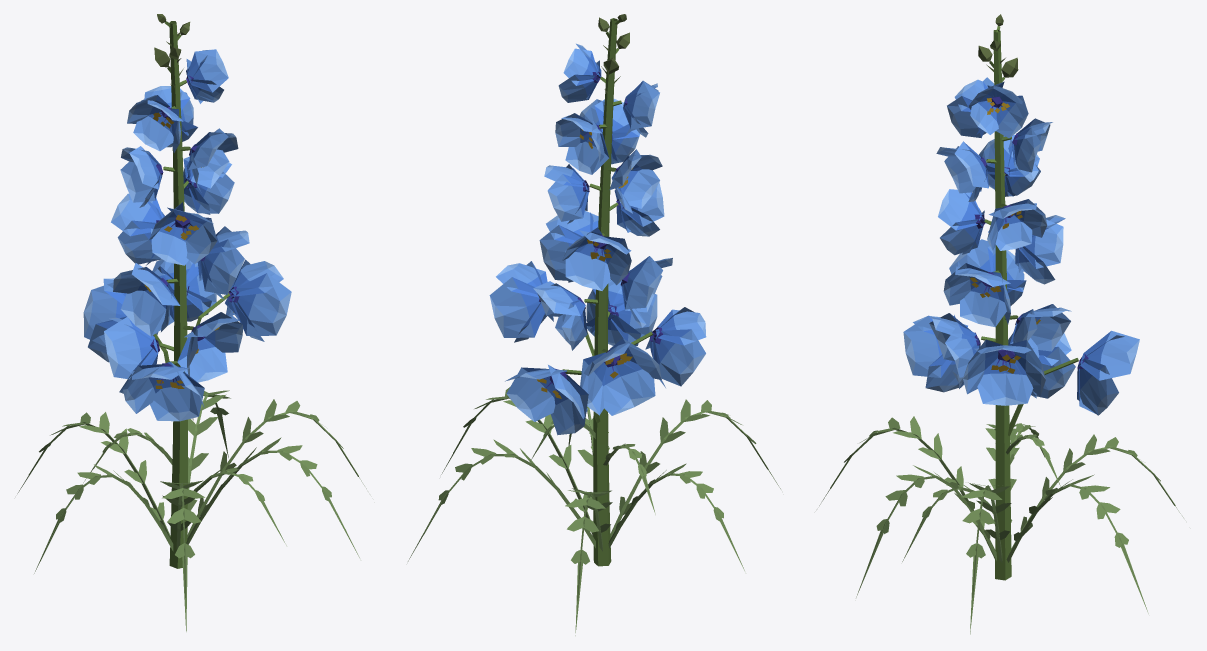
The model's file is meconopsis.glb.
3 renders of one model, left to right at view 1: azimuth 30°, elevation 25°; view 2: azimuth 150°, elevation 25°; view 3: azimuth 270°, elevation 25°, orthographic.
Visible parts, largest first — view 1: Meconopsis; view 2: Meconopsis; view 3: Meconopsis.
Boxes of the visible parts, x1,y1,x2,y2 form: Meconopsis: [17, 14, 366, 631]; Meconopsis: [408, 14, 780, 635]; Meconopsis: [819, 14, 1183, 634].
Size of the model in its own units: 0.388 by 0.6318 by 0.3933.
